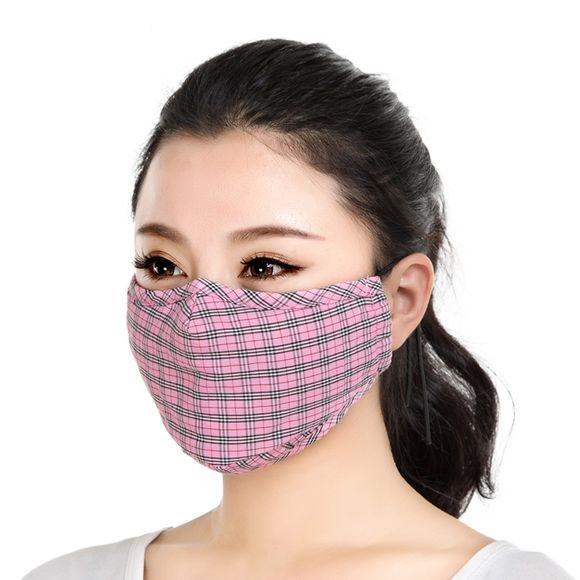OK: (124, 192, 391, 459)
